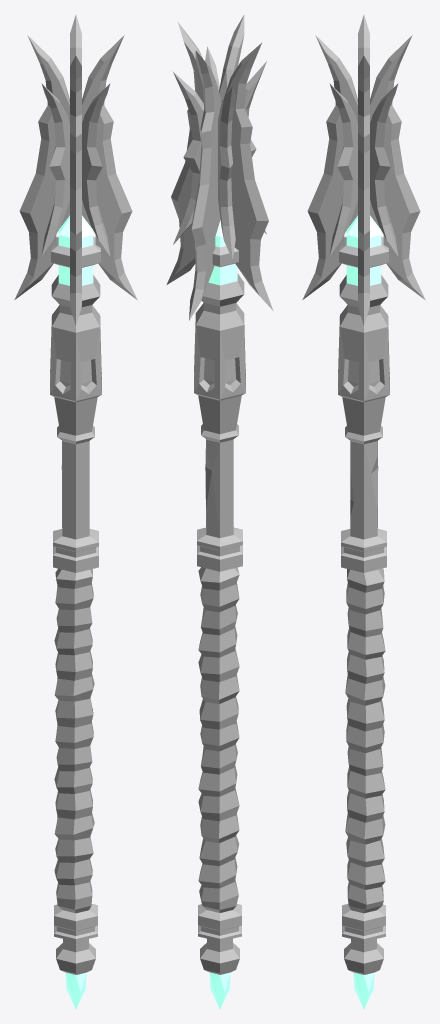
The model's file is SM_Wep_Glaive_02.fbx.
3 views of the same model, side by side, from view 1: azimuth 90°, elevation 25°; view 2: azimuth 150°, elevation 25°; view 3: azimuth 270°, elevation 25° (orthographic).
Visible parts, largest first — view 1: SM_Wep_Glaive_02; view 2: SM_Wep_Glaive_02; view 3: SM_Wep_Glaive_02.
Boxes of the visible parts, x1,y1,x2,y2 form: SM_Wep_Glaive_02: (14, 15, 137, 1009); SM_Wep_Glaive_02: (166, 15, 273, 1009); SM_Wep_Glaive_02: (302, 15, 425, 1009).
Bounding box in the file's own units: 24.36 × 212 × 24.36.
